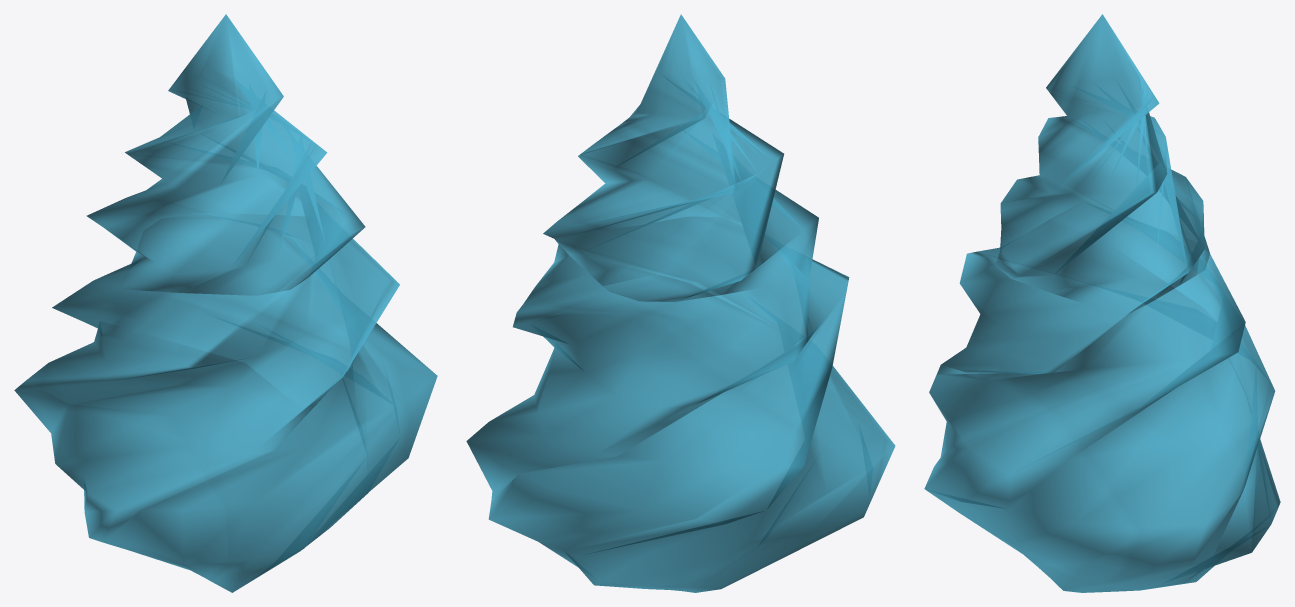
File: SM_Coeur_Complete.fbx
3 renders of one model, left to right at view 1: azimuth 30°, elevation 25°; view 2: azimuth 150°, elevation 25°; view 3: azimuth 270°, elevation 25°, orthographic. The views are drawn at different scales.
Parts seen in each view (by area): view 1: SM_Coeur_Complete; view 2: SM_Coeur_Complete; view 3: SM_Coeur_Complete.
Part boxes in pixels (x1=…): SM_Coeur_Complete: x1=14, y1=14, x2=437, y2=592; SM_Coeur_Complete: x1=466, y1=14, x2=895, y2=592; SM_Coeur_Complete: x1=924, y1=14, x2=1280, y2=592.
Size of the model in its own units: 50.03 by 80.42 by 45.4.
